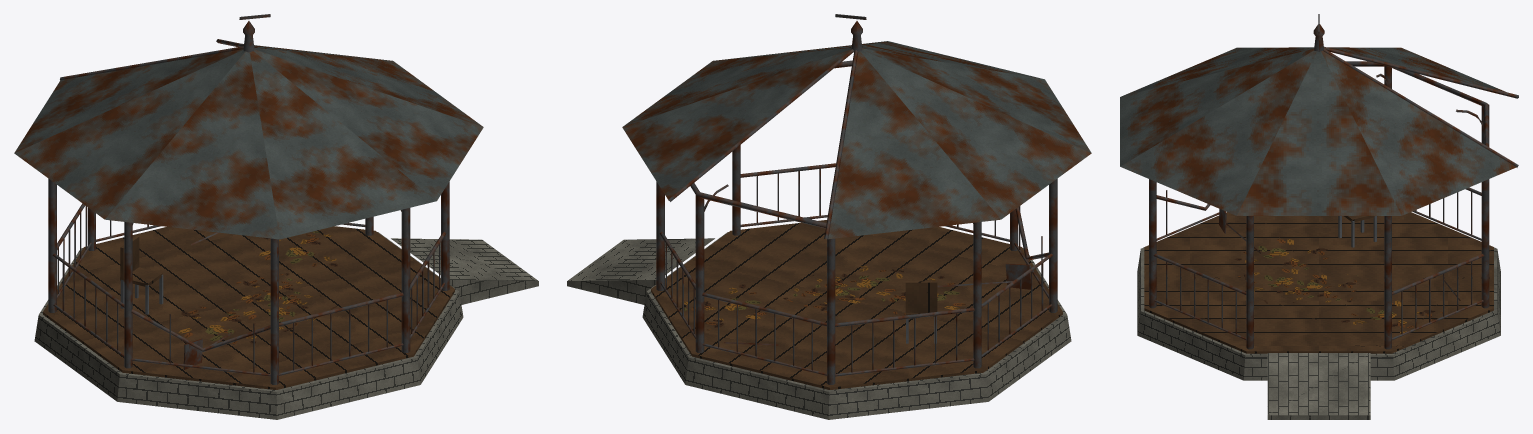
File: park_gazebo.glb
3 renders of one model, left to right at view 1: azimuth 30°, elevation 25°; view 2: azimuth 150°, elevation 25°; view 3: azimuth 270°, elevation 25°, orthographic. The views are drawn at different scales.
Parts seen in each view (by area): view 1: detail, gazebo-col; view 2: gazebo-col, detail; view 3: detail, gazebo-col.
Part boxes in pixels (x1,y1,x2,y2): detail: [14, 14, 483, 376]; gazebo-col: [34, 178, 538, 419]; gazebo-col: [567, 145, 1071, 419]; detail: [622, 14, 1091, 376]; detail: [1120, 14, 1518, 340]; gazebo-col: [1137, 65, 1500, 419].
Size of what is drawn, in the model's own units: 7.37 by 4.9 by 6.2.
9 materials, 9 textured.
